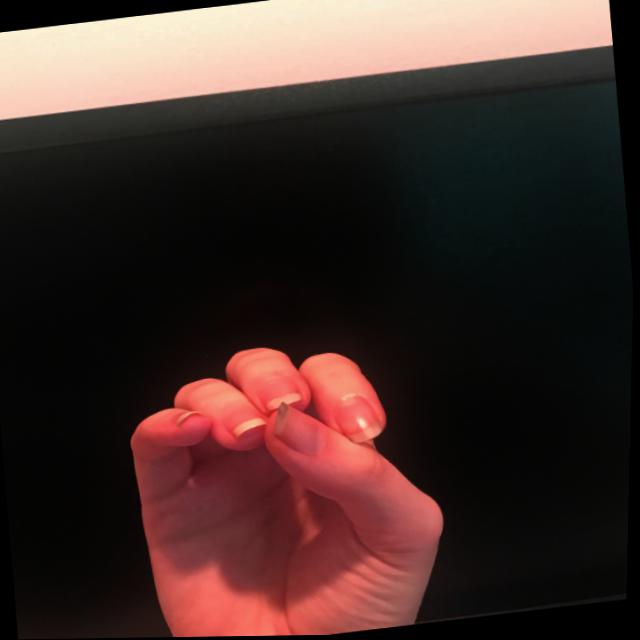O: (109, 320, 467, 638)
